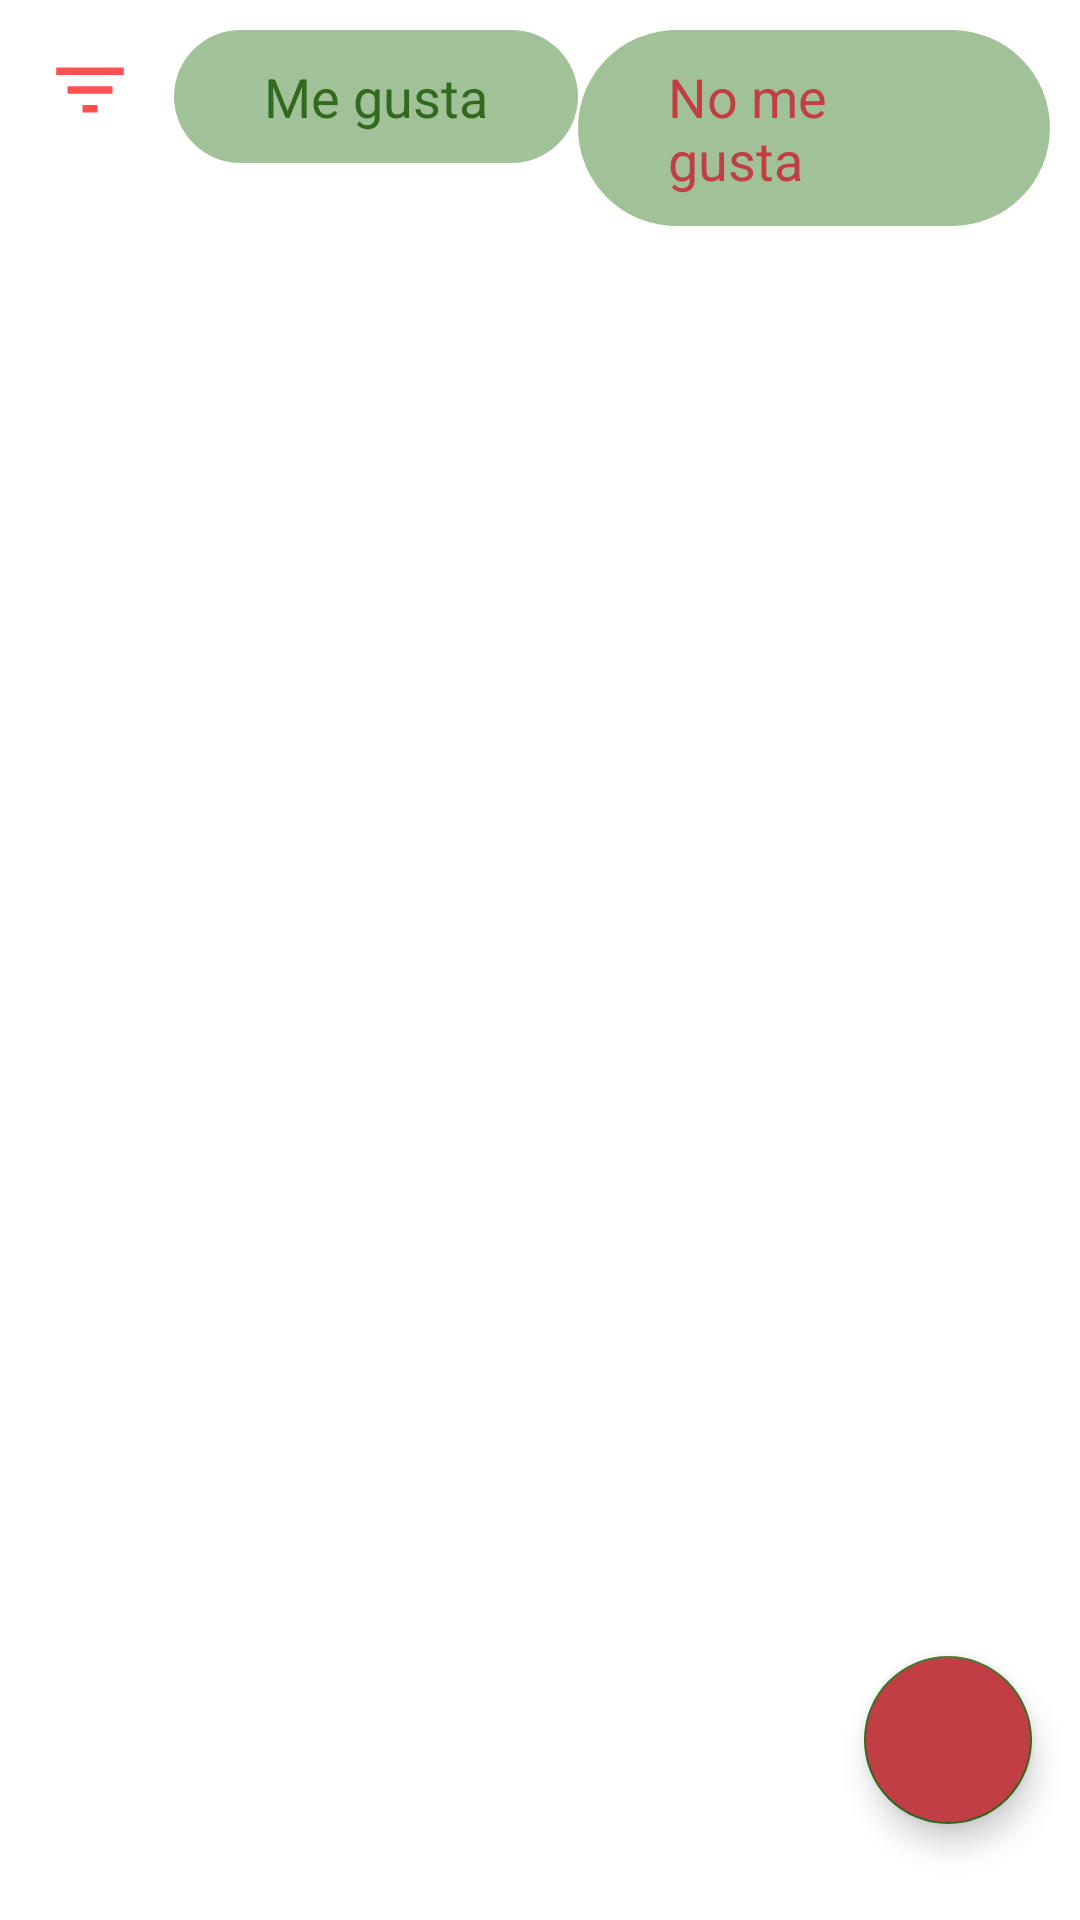

Icon click points for this 1080w x 1920h phone screenshot, format (x=x, y=y):
filter list: (x=90, y=90)
